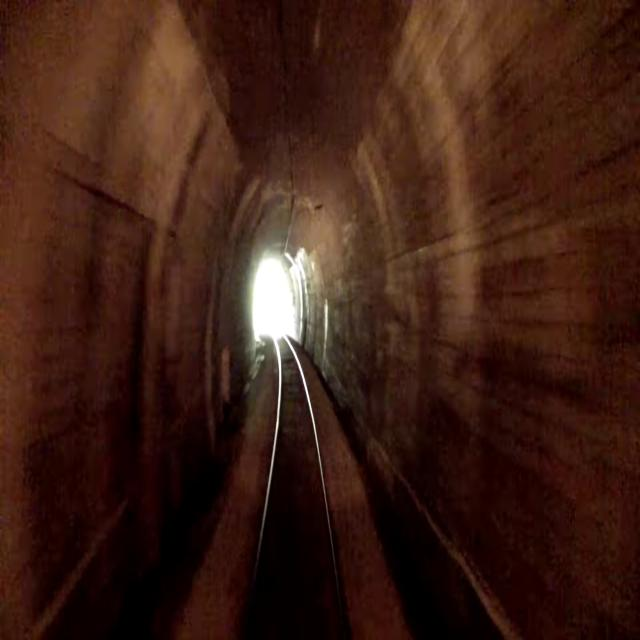rail-track: (246, 331, 341, 639)
